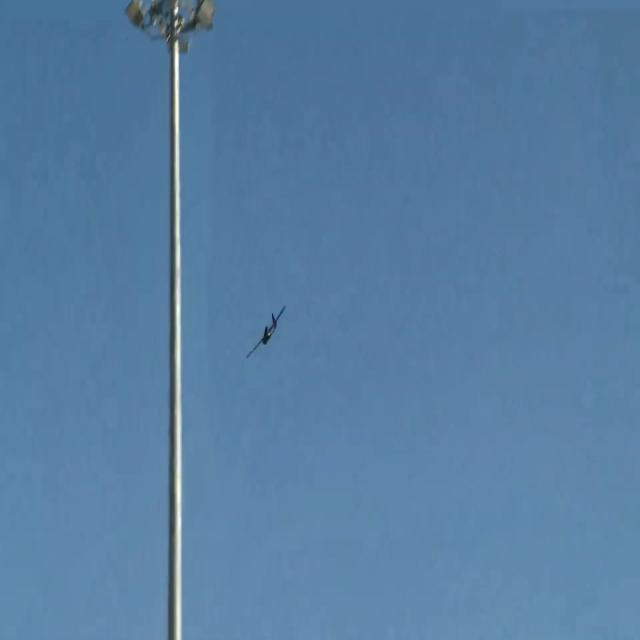iha: (239, 296, 280, 351)
